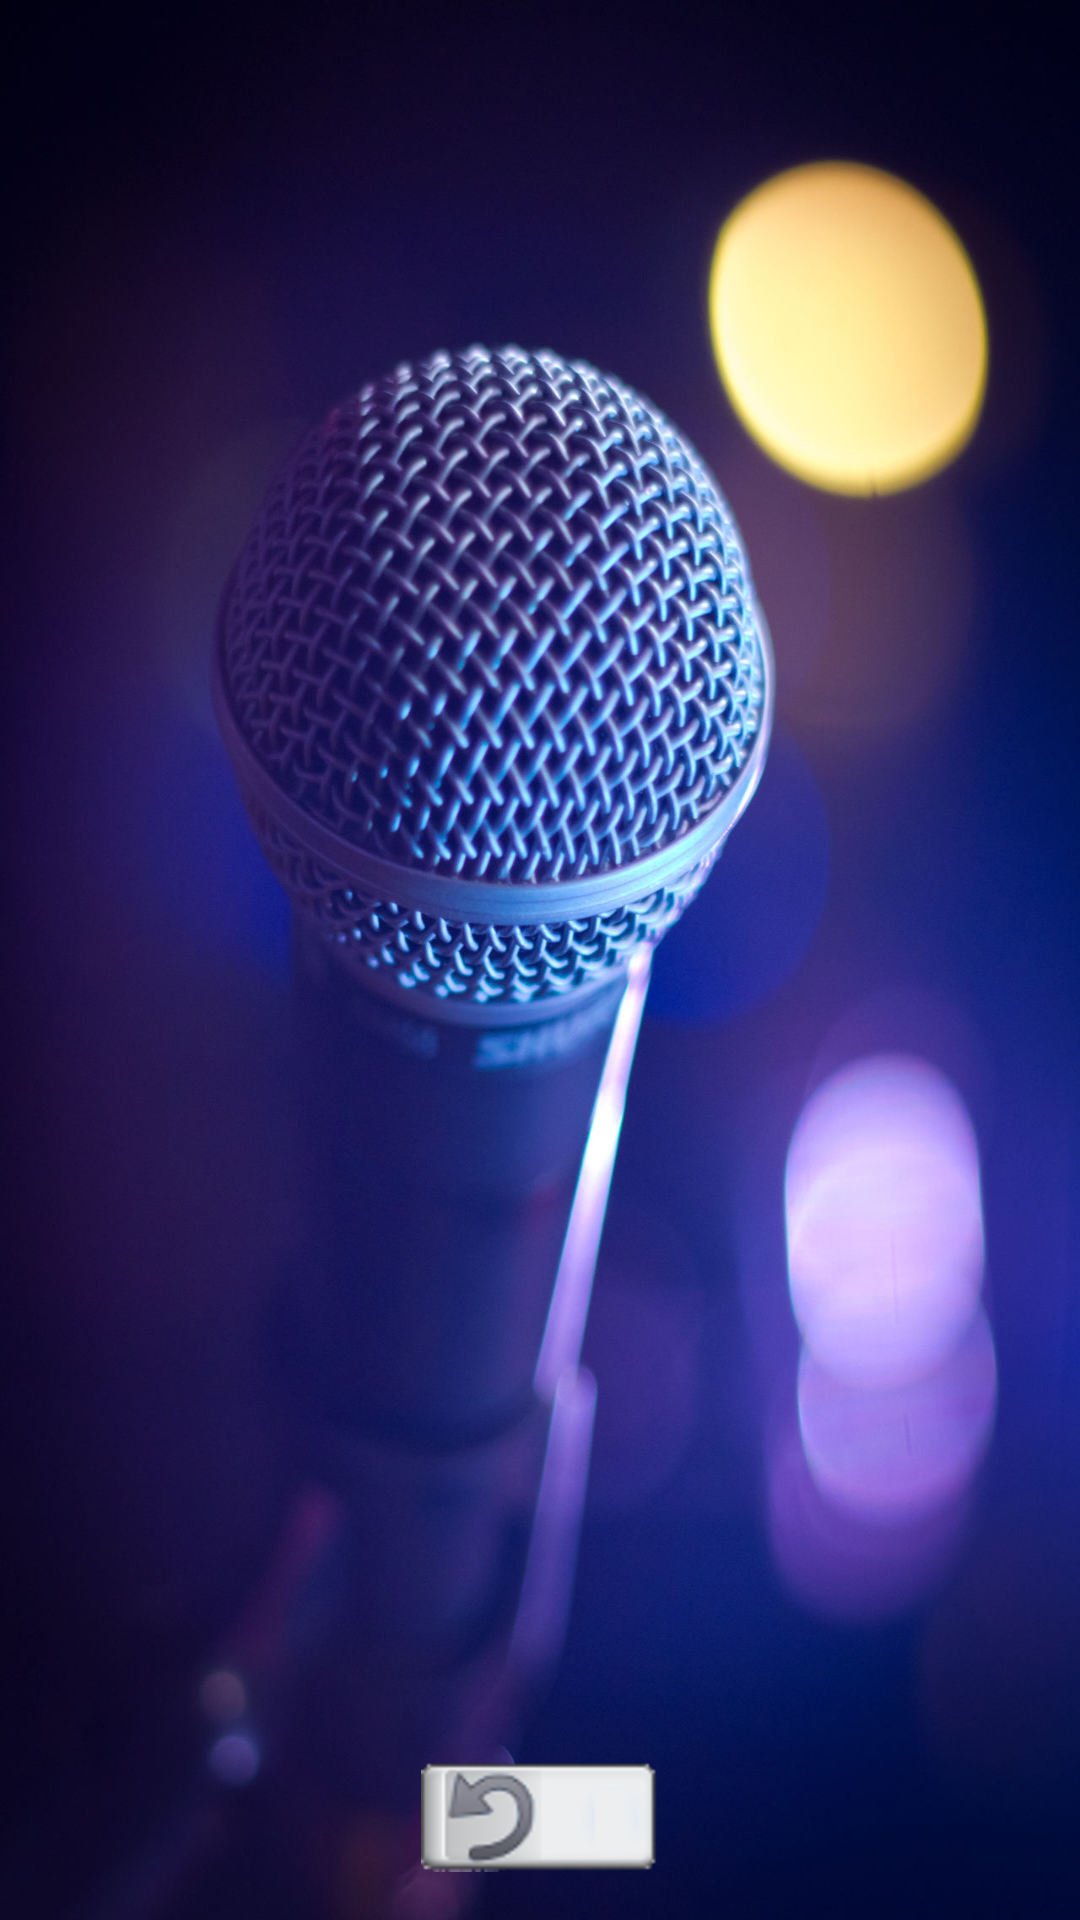

Locate icon controls on the screen. Image size 1080 x 1920, boxes as (left=x1, top=y1, right=x2, bottom=y2).
Category back button: (left=421, top=1761, right=656, bottom=1872)
